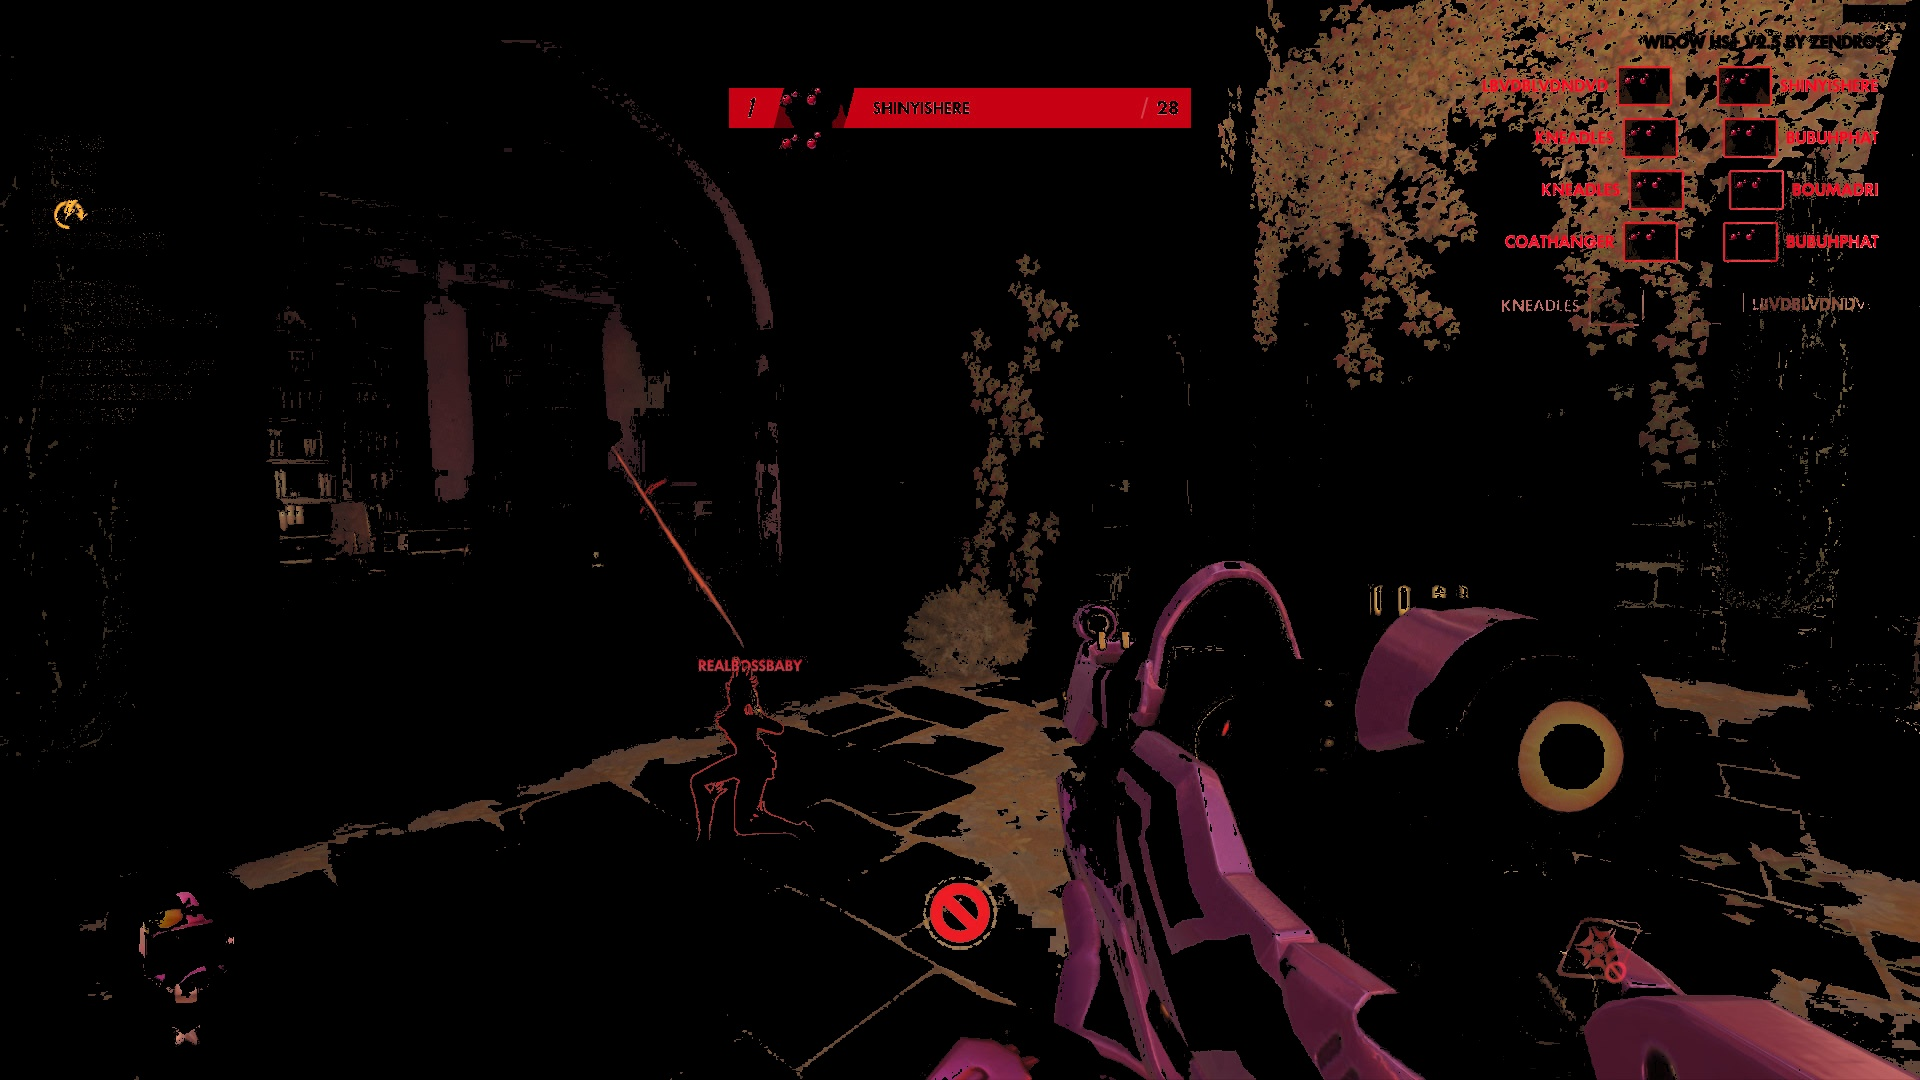widowmaker: (683, 674, 820, 865)
